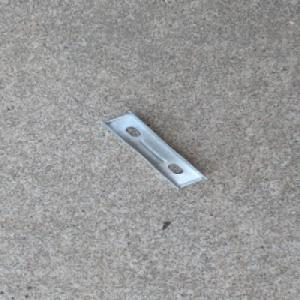ClampPart: (100, 109, 211, 190)
